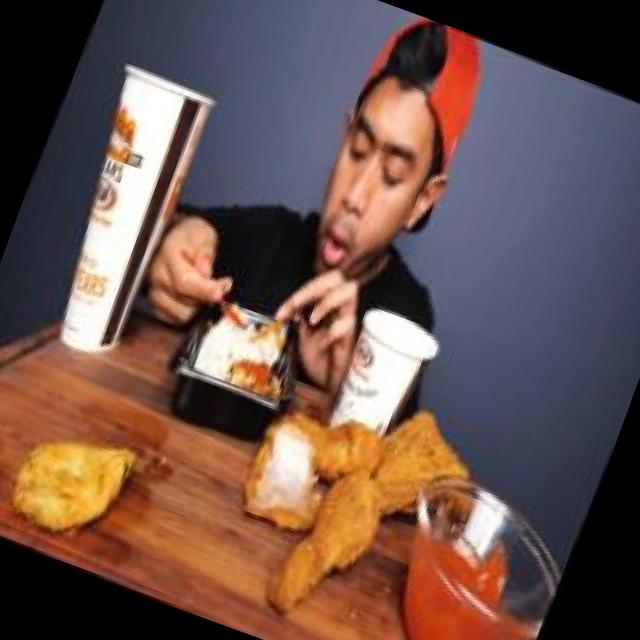AW cola: (4, 36, 234, 389)
black pepper rice bowl: (173, 260, 324, 443)
crispy corn: (318, 293, 467, 472)
fried chicken: (205, 346, 491, 640)
perkedel: (0, 388, 154, 571)
